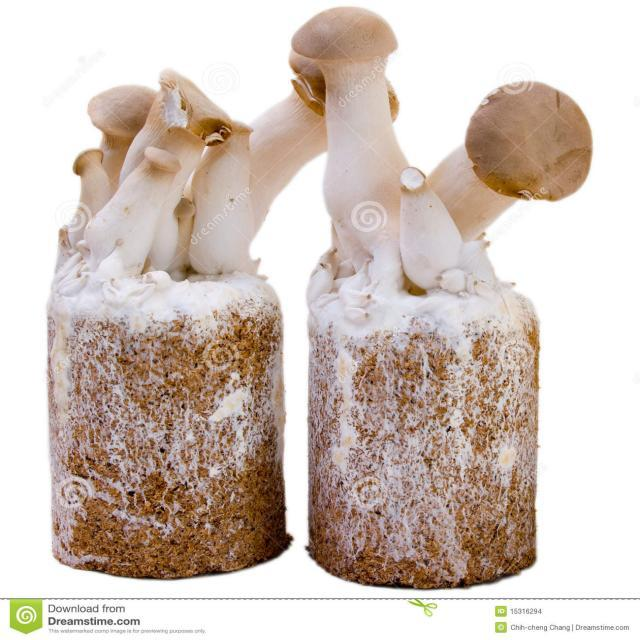Pleurotus eryngii: (289, 14, 591, 304), (61, 75, 262, 283)
